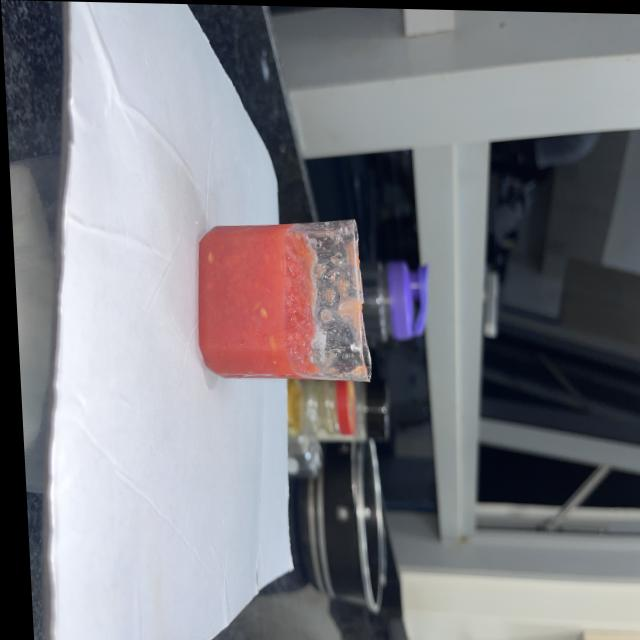blended_tomatoes_pepper: (191, 223, 317, 380)
